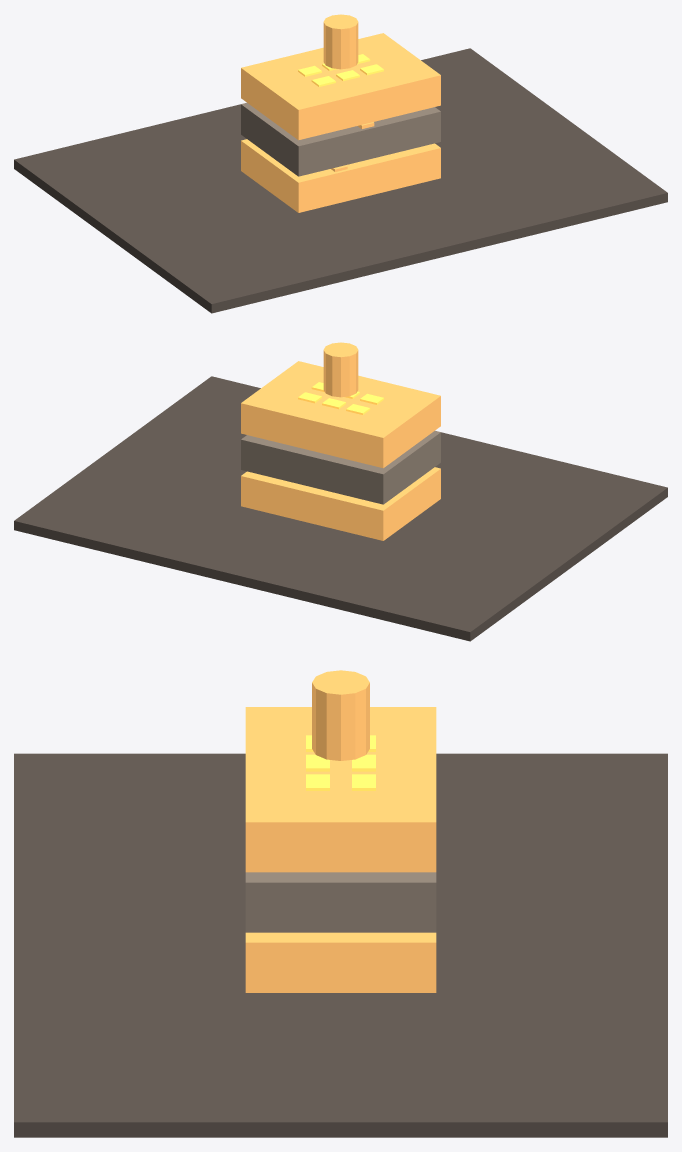
3 renders of one model, top to bottom at view 1: azimuth 30°, elevation 25°; view 2: azimuth 150°, elevation 25°; view 3: azimuth 270°, elevation 25°, orthographic. The views are drawn at different scales.
Parts seen in each view (by area): view 1: ProfileGround, BuildingFloor_3, BuildingFloor_1, BuildingFloor_2, BuildingVerticalLandmark; view 2: ProfileGround, BuildingFloor_3, BuildingFloor_1, BuildingFloor_2, BuildingVerticalLandmark; view 3: ProfileGround, BuildingFloor_3, BuildingFloor_2, BuildingFloor_1, BuildingVerticalLandmark.
Boxes of the visible parts, box(x1,y1,x2,y2) form: ProfileGround: box(14, 48, 667, 313); BuildingFloor_3: box(241, 33, 440, 140); BuildingFloor_1: box(241, 139, 440, 212); BuildingFloor_2: box(241, 102, 440, 176); BuildingVerticalLandmark: box(323, 14, 358, 69); ProfileGround: box(14, 376, 667, 641); BuildingFloor_3: box(241, 361, 440, 468); BuildingFloor_1: box(241, 467, 440, 540); BuildingFloor_2: box(241, 430, 440, 504); BuildingVerticalLandmark: box(323, 342, 358, 397); ProfileGround: box(14, 753, 667, 1137); BuildingFloor_3: box(245, 707, 436, 872); BuildingFloor_2: box(245, 872, 436, 932); BuildingFloor_1: box(245, 932, 436, 992); BuildingVerticalLandmark: box(312, 670, 369, 760).
Bounding box in the file's own units: 10.24 × 3.51 × 7.68.
